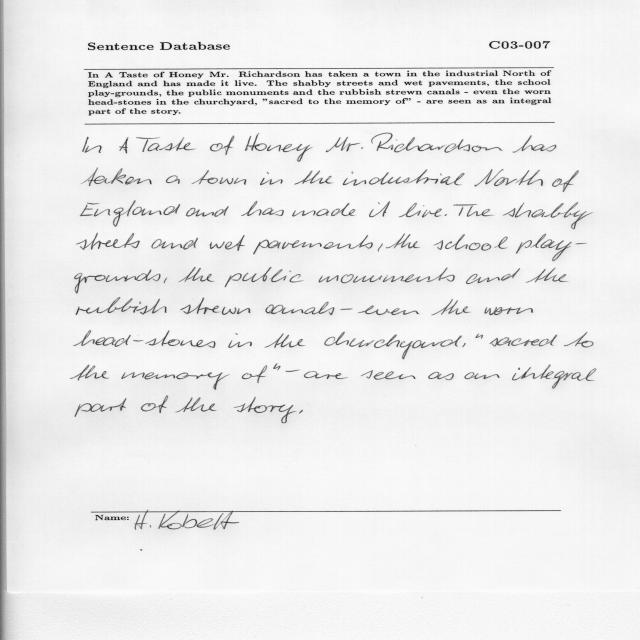word: (324, 332, 462, 359), (371, 133, 503, 153), (80, 201, 180, 227), (74, 330, 216, 348), (503, 202, 593, 229), (253, 235, 373, 254), (318, 268, 455, 284), (343, 169, 465, 186), (75, 269, 161, 293), (512, 365, 596, 389), (245, 133, 313, 162), (122, 372, 230, 390), (516, 234, 587, 261), (76, 297, 167, 315), (234, 397, 297, 423), (225, 267, 303, 287), (81, 168, 152, 186), (180, 297, 251, 315), (433, 234, 508, 251), (474, 169, 543, 186), (76, 233, 140, 250), (75, 398, 127, 417), (136, 137, 196, 152), (266, 302, 335, 315), (466, 268, 520, 284), (292, 203, 355, 216), (192, 170, 246, 185), (490, 335, 557, 347), (513, 135, 556, 153), (241, 201, 284, 216), (399, 203, 442, 218), (526, 268, 569, 283), (175, 397, 217, 412), (432, 299, 471, 315), (265, 334, 306, 349), (358, 305, 419, 315), (71, 365, 109, 381), (552, 170, 579, 192), (151, 238, 198, 250), (210, 235, 245, 251), (326, 137, 363, 152), (361, 370, 416, 380), (295, 171, 334, 185), (179, 267, 215, 282), (453, 204, 494, 217), (386, 234, 420, 249), (141, 395, 168, 413), (186, 206, 229, 217), (210, 136, 234, 155), (242, 365, 267, 383), (564, 332, 593, 347), (485, 307, 534, 315), (228, 333, 252, 348), (304, 371, 348, 379), (369, 202, 390, 218), (83, 136, 102, 153), (260, 172, 283, 185), (464, 372, 500, 379), (428, 372, 454, 380), (119, 137, 129, 153), (166, 176, 180, 184), (378, 243, 383, 252), (274, 364, 281, 370), (475, 334, 483, 339), (286, 370, 300, 372), (341, 308, 353, 310), (164, 278, 167, 284), (462, 343, 466, 347), (299, 410, 303, 414), (444, 214, 447, 216)
